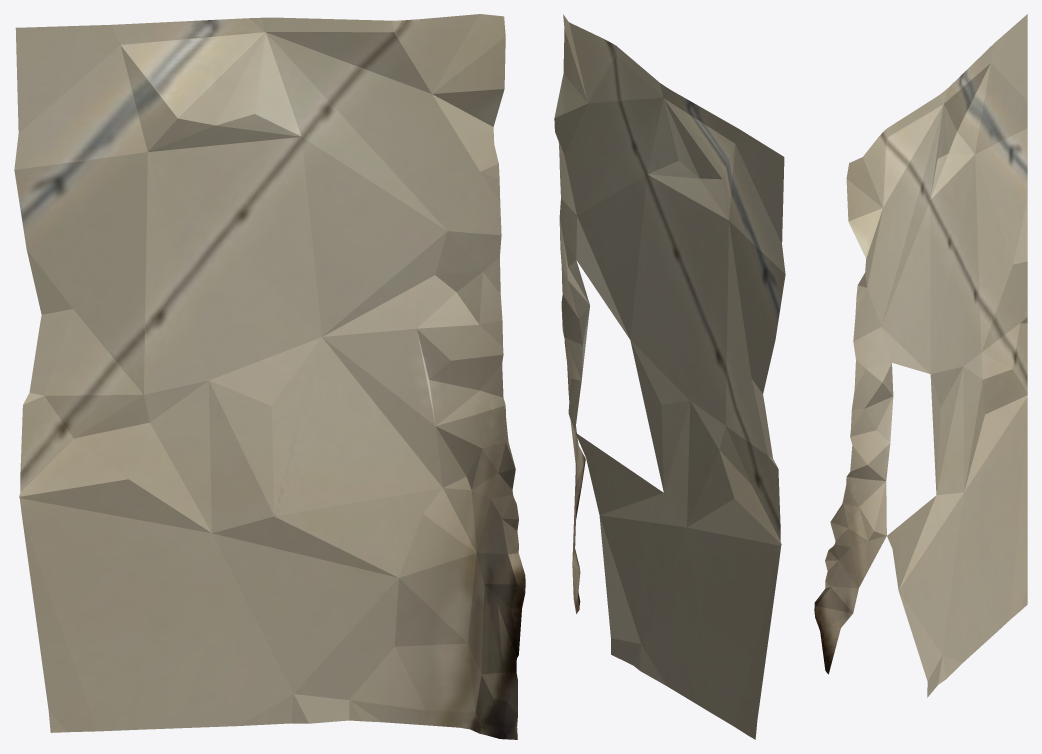
3 renders of one model, left to right at view 1: azimuth 30°, elevation 25°; view 2: azimuth 150°, elevation 25°; view 3: azimuth 270°, elevation 25°, orthographic. The views are drawn at different scales.
Bounding box in the file's own units: 0.9319 × 1.67 × 0.5608.
2 materials, 2 textured.
